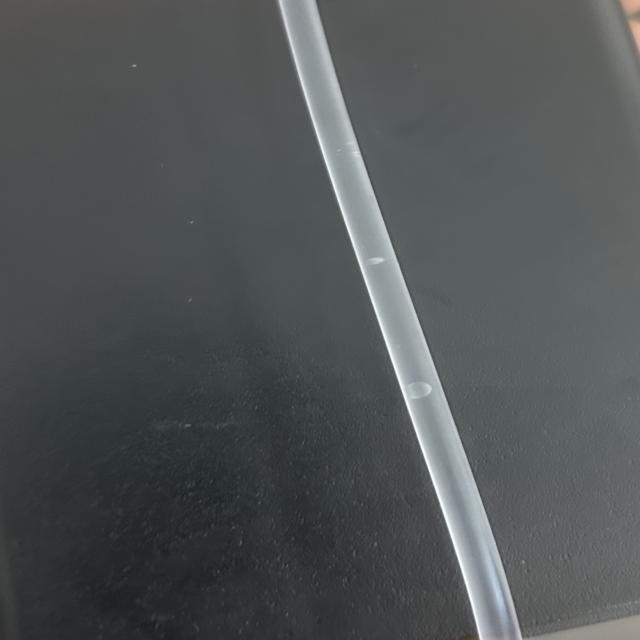bubble: (396, 376, 476, 411), (352, 249, 417, 280)
